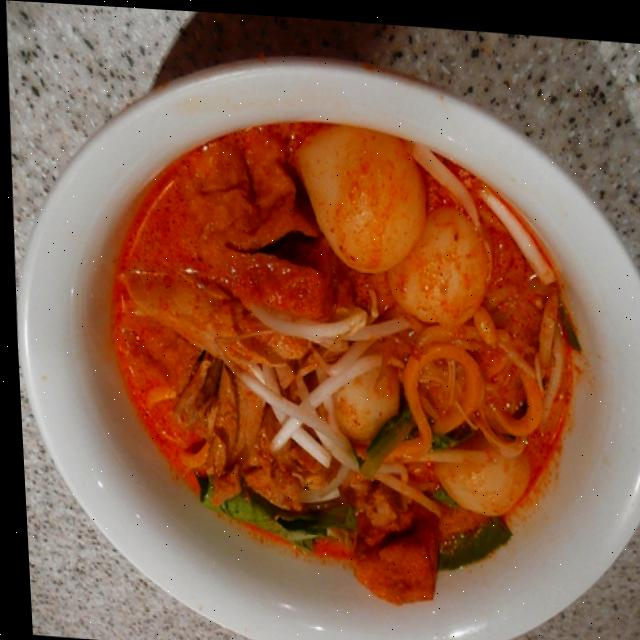面条主食: (44, 59, 640, 640)
